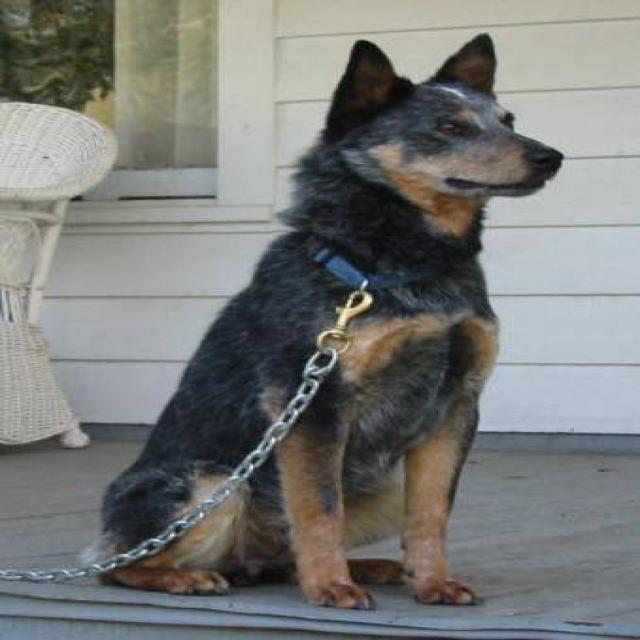dog: (81, 31, 565, 610)
